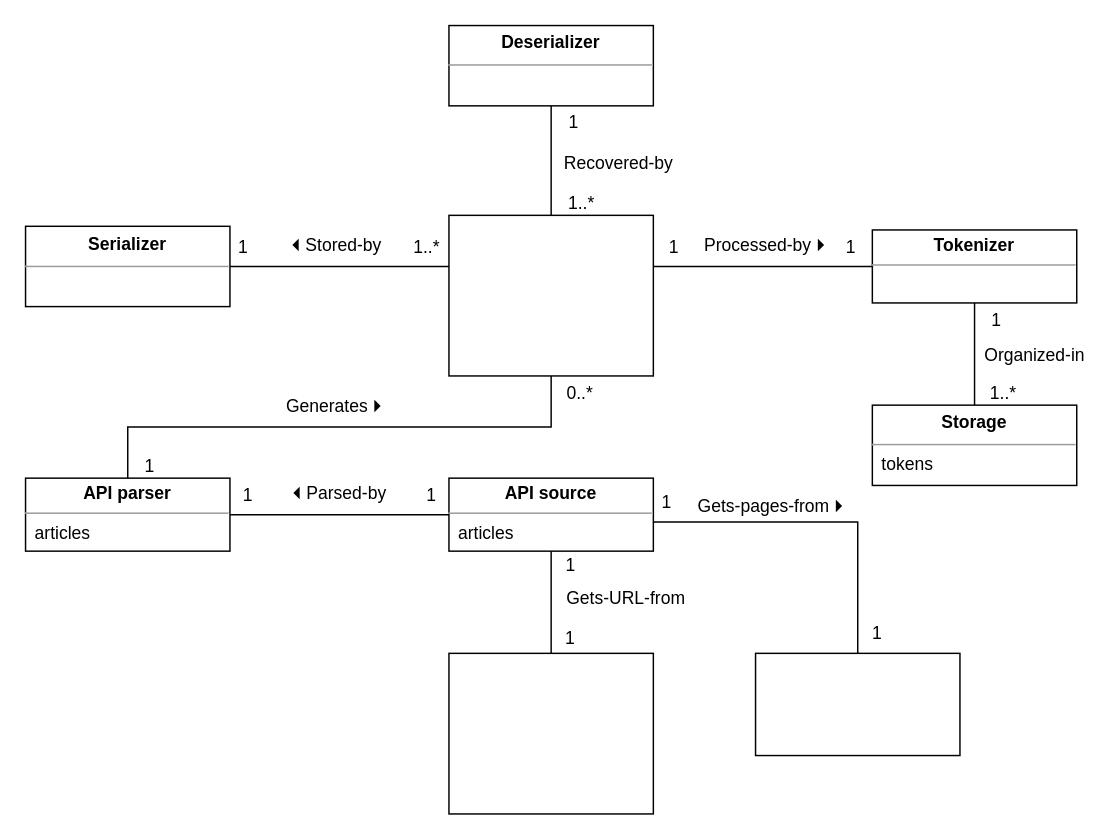
The diagram is 1110 pixels wide and 840 high, and some of its shapes have lost their labels. The box of each missing label's shape, as (x1, y1, x2, y2) in pixels:
Article id URL date head body: (447, 214, 653, 376)
URL setter URL API key queries tags page size: (447, 652, 653, 814)
Web client request response: (754, 652, 960, 756)
